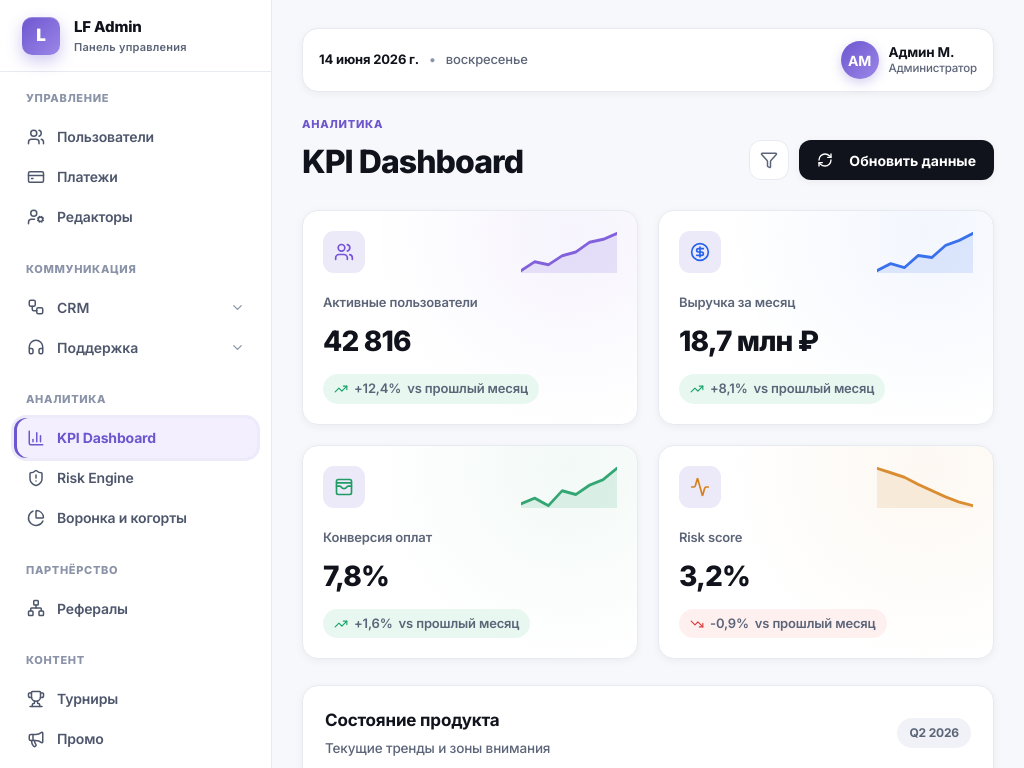
Test: AC-3: CRM and Support expand by click › Support sub-items are hidden by default and shown after click
expect the link "тикеты" is not shown: met
Click the button "Поддержка": (136, 347) top-left (14, 327), bottom-right (257, 367)
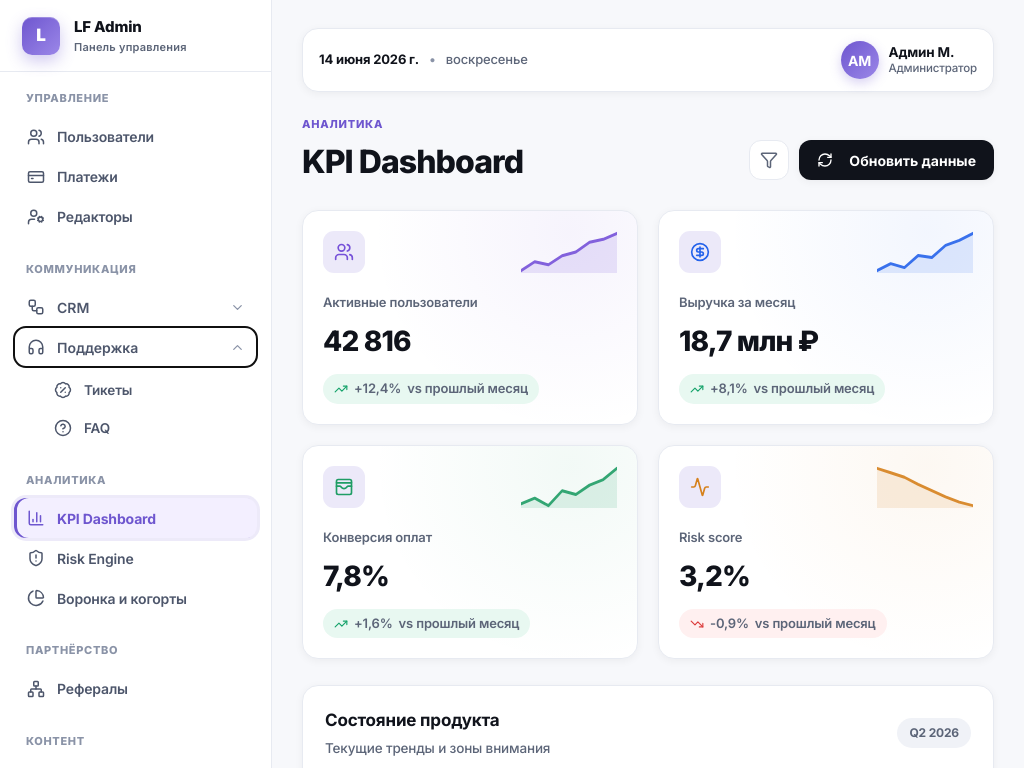
expect the link "Тикеты" is shown: met, box top-left (54, 381), bottom-right (132, 399)
expect the link "FAQ" is shown: met, box top-left (54, 419), bottom-right (110, 437)
